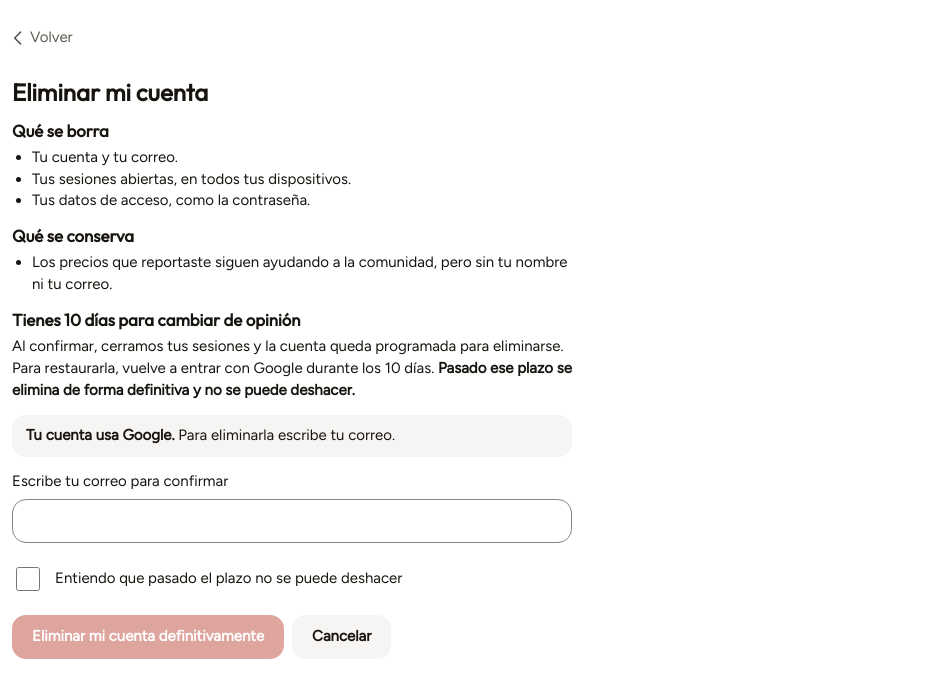
eliminar la cuenta creada con Google › envía confirmEmail y muestra la pantalla final con la salida de Google
The image size is (929, 676).
Type " ana@correo.co " into the field labelled "Escribe tu correo para confirmar" at point(292, 521), box x1=12 y1=499 x2=572 y2=543
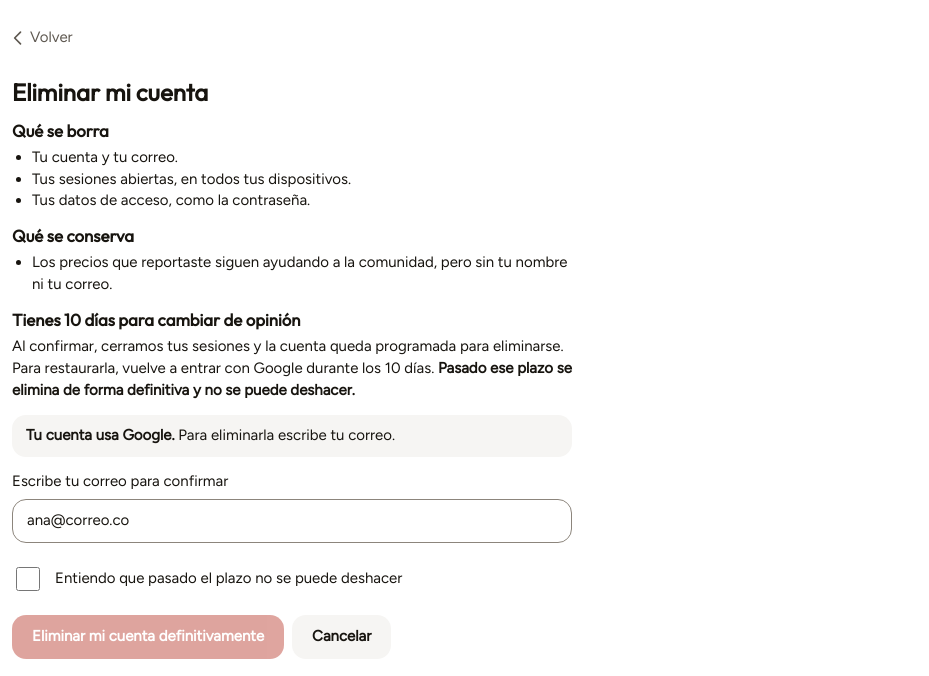
Click the checkbox at point(28, 579), box x1=16 y1=567 x2=40 y2=591
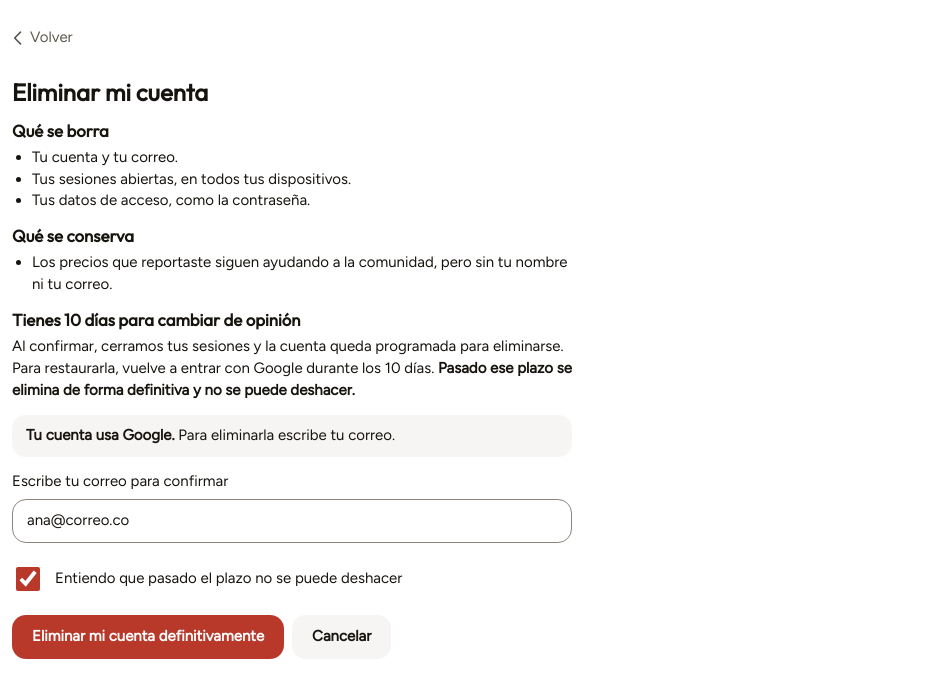
Click the button "Eliminar mi cuenta definitivamente" at point(148, 637), box x1=12 y1=615 x2=284 y2=659
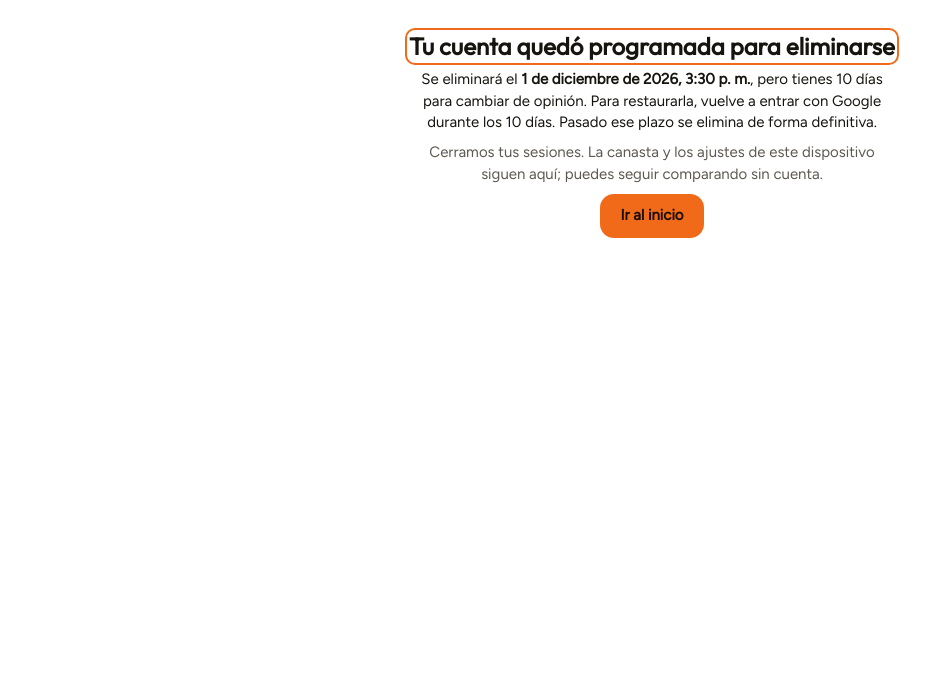
Expected: the message shows "Para restaurarla, vuelve a entrar con Google durante los 10 días.", x1=427 y1=92 x2=881 y2=131
Expected: the message no longer shows "contraseña", x1=392 y1=0 x2=912 y2=270
